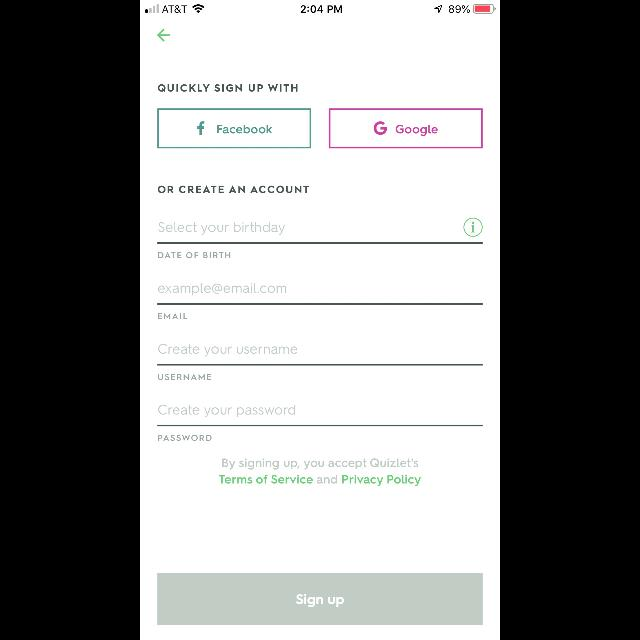icon: (463, 218, 482, 236), (157, 28, 170, 42)
input: (158, 218, 482, 244), (158, 405, 482, 427), (158, 344, 482, 366), (158, 283, 482, 305)
text: (219, 458, 421, 486), (158, 404, 296, 418), (158, 282, 286, 296), (158, 344, 298, 356), (159, 222, 285, 235), (158, 186, 308, 194), (158, 84, 298, 92), (159, 252, 231, 258), (158, 374, 212, 380), (158, 435, 212, 441), (158, 313, 188, 319)
textbutton: (158, 573, 482, 625), (157, 109, 311, 149), (329, 109, 483, 149)
uppertaskbar: (140, 0, 500, 14)
